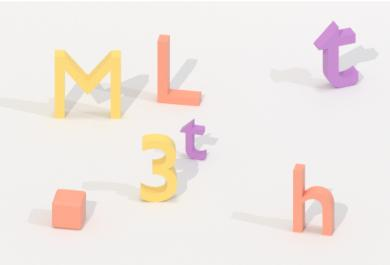0-KhoiVuong: (47, 185, 91, 233)
3: (139, 129, 179, 205)
L: (152, 29, 206, 110)
M: (51, 42, 124, 124)
h: (289, 162, 339, 241)
t: (310, 18, 362, 92), (177, 115, 211, 163)
